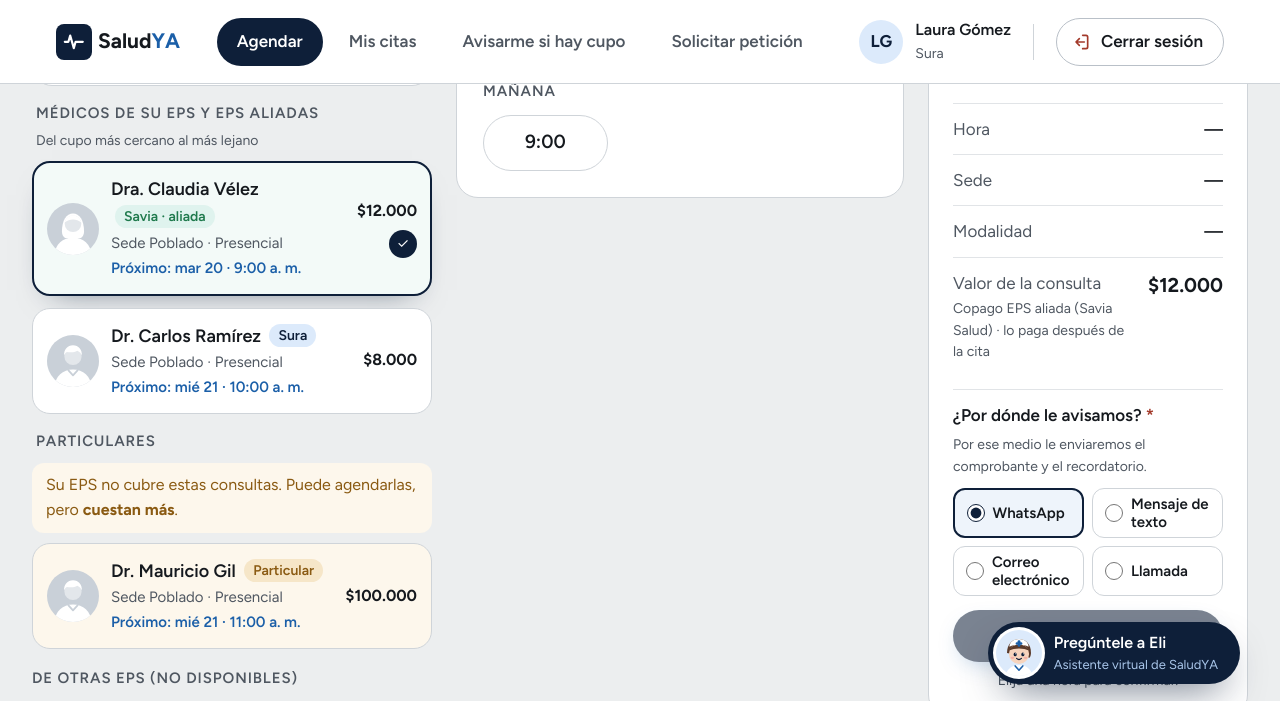
Test: Médicos por EPS › cada médico con su EPS y su valor: su EPS y aliadas, particulares (cuestan más) y otras EPS en gris
(page scrolled)
Expected: the text "Médicos de su EPS y EPS aliadas" is shown, [36,102,319,126]
Expected: the text "$8.000" is shown, [363,348,417,373]
Click the button "Dr. Carlos Ramírez": (232, 361) [32,308,432,414]
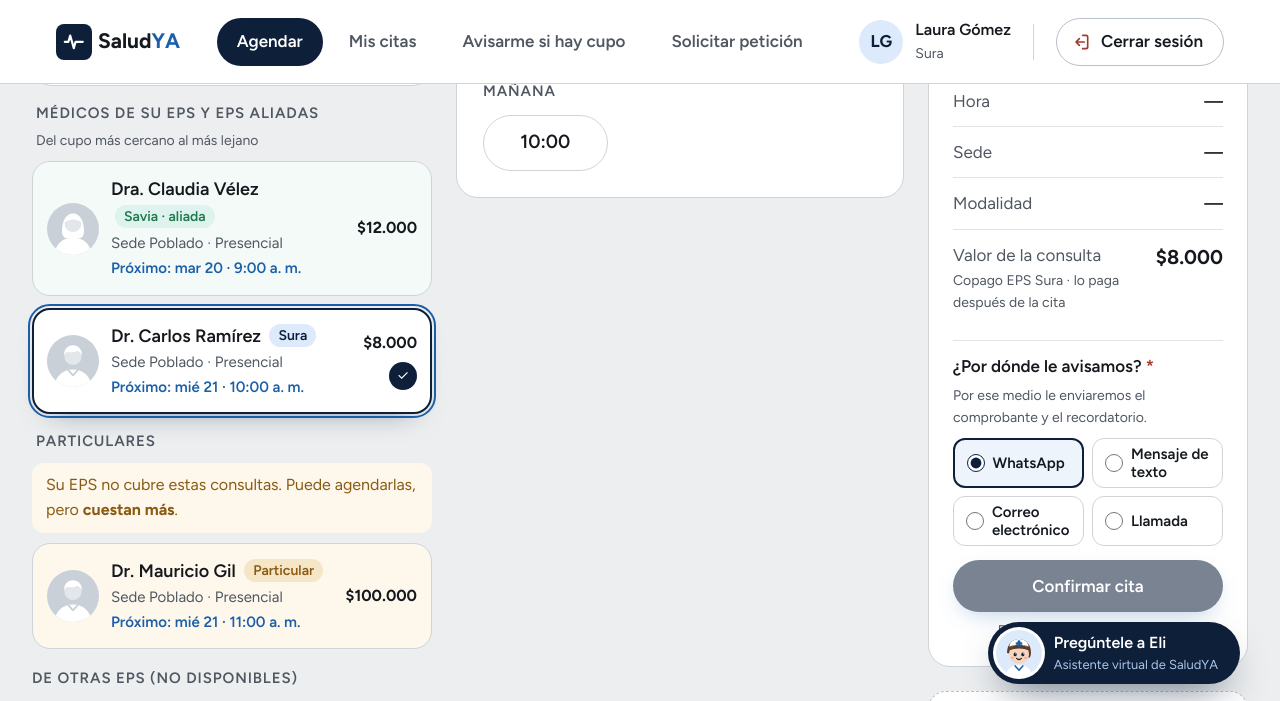
Result: the text "Copago EPS Sura · lo paga después de la cita" is shown at [953,270,1140,314]
Click the button "Dr. Mauricio Gil": (232, 596) [32,543,432,649]
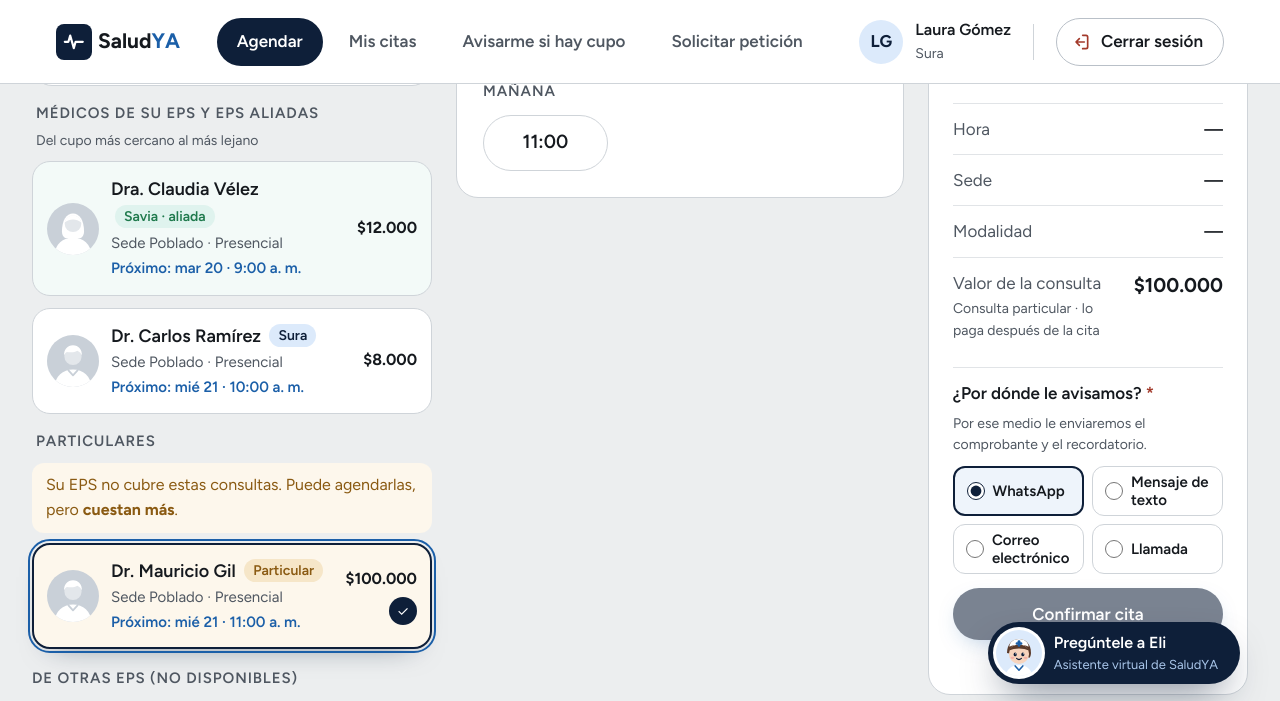
Result: the text "Consulta particular · lo paga después de la cita" is shown at [953,298,1118,341]
